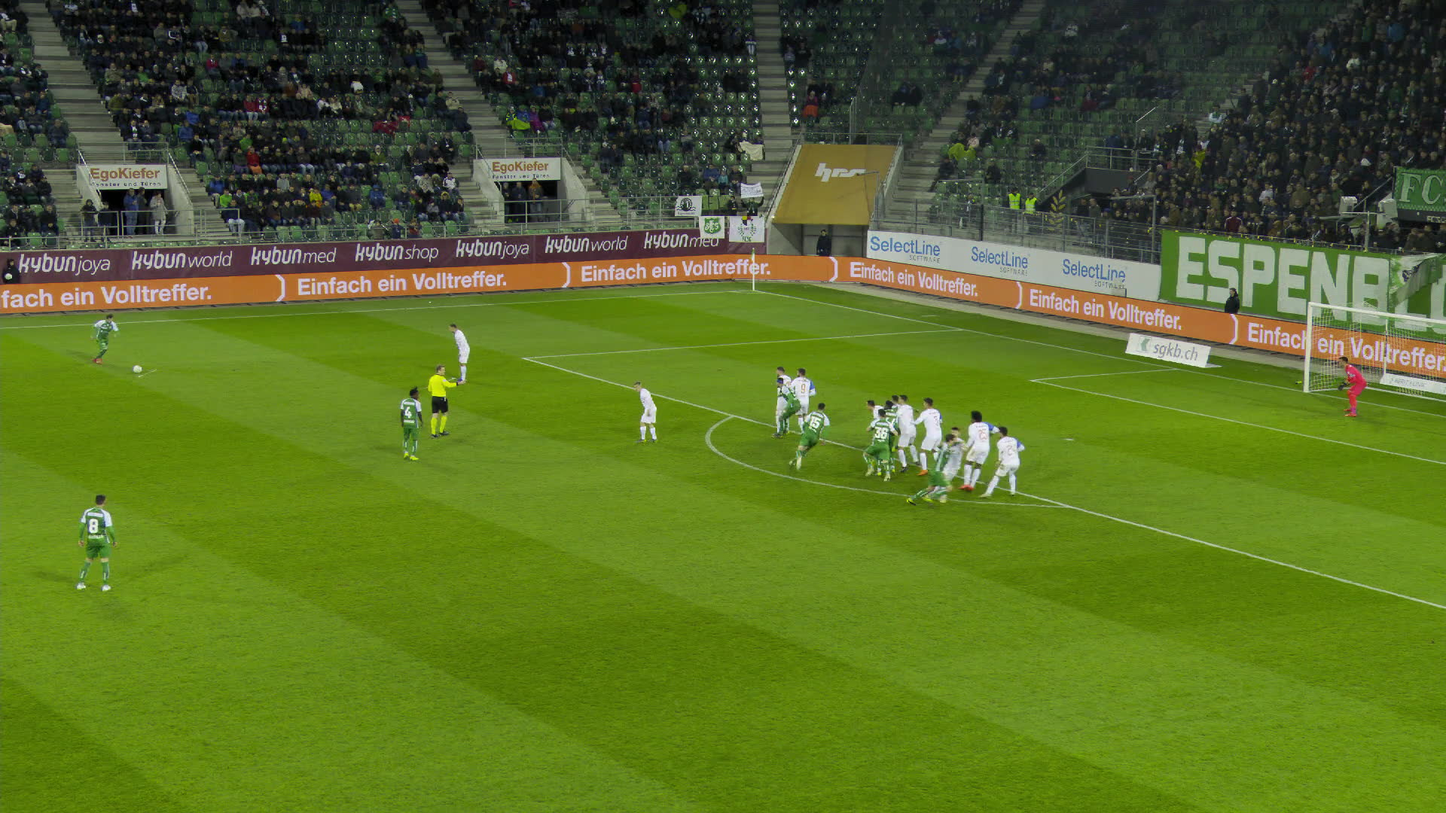ball: (133, 365, 141, 373)
player: (905, 434, 956, 507), (78, 492, 115, 592), (788, 403, 829, 469), (960, 411, 994, 489), (990, 428, 1025, 498), (929, 428, 962, 498), (865, 408, 896, 481), (874, 400, 905, 471), (914, 398, 941, 476), (770, 370, 798, 437), (398, 386, 423, 460), (890, 394, 914, 469), (632, 379, 660, 443), (1340, 355, 1368, 416), (790, 370, 815, 435), (773, 378, 799, 438), (878, 400, 898, 473), (863, 398, 888, 452), (89, 314, 114, 364), (447, 321, 467, 382)
referee: (426, 365, 462, 437)
